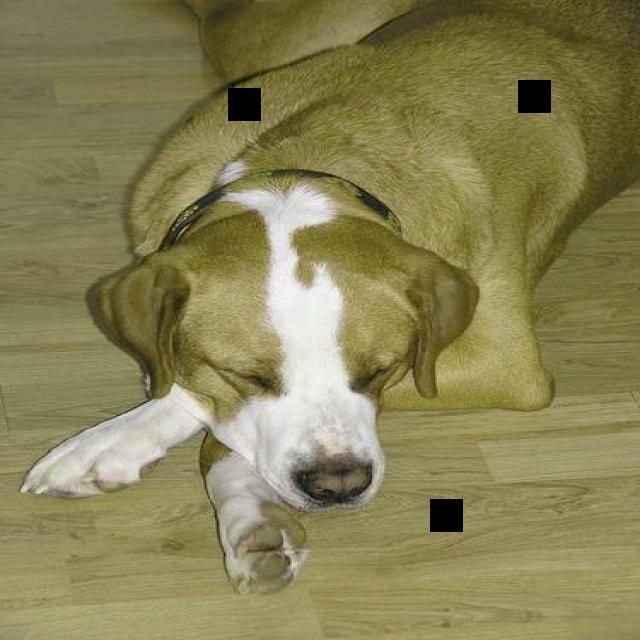adult_dog: (18, 1, 640, 597)
